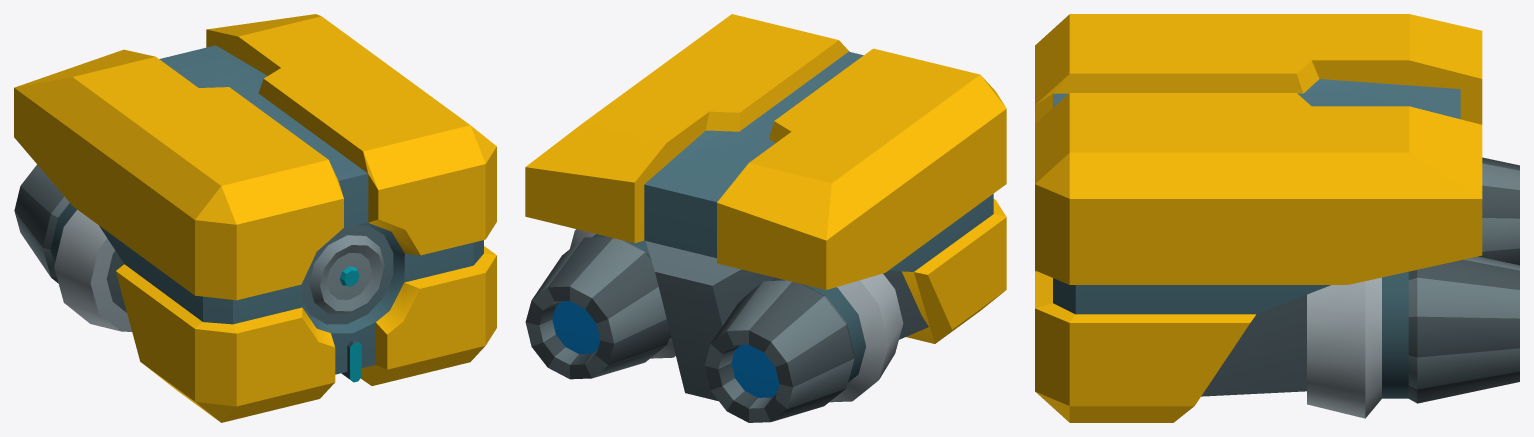
The model's file is Drone_009.fbx.
3 renders of one model, left to right at view 1: azimuth 30°, elevation 25°; view 2: azimuth 150°, elevation 25°; view 3: azimuth 270°, elevation 25°, orthographic. The views are drawn at different scales.
Visible parts, largest first — view 1: Drone_009; view 2: Drone_009; view 3: Drone_009.
Boxes of the visible parts, x1,y1,x2,y2 form: Drone_009: (14, 14, 496, 422); Drone_009: (525, 14, 1006, 422); Drone_009: (1035, 14, 1519, 422).
Bounding box in the file's own units: 38.92 × 44.17 × 28.91.
